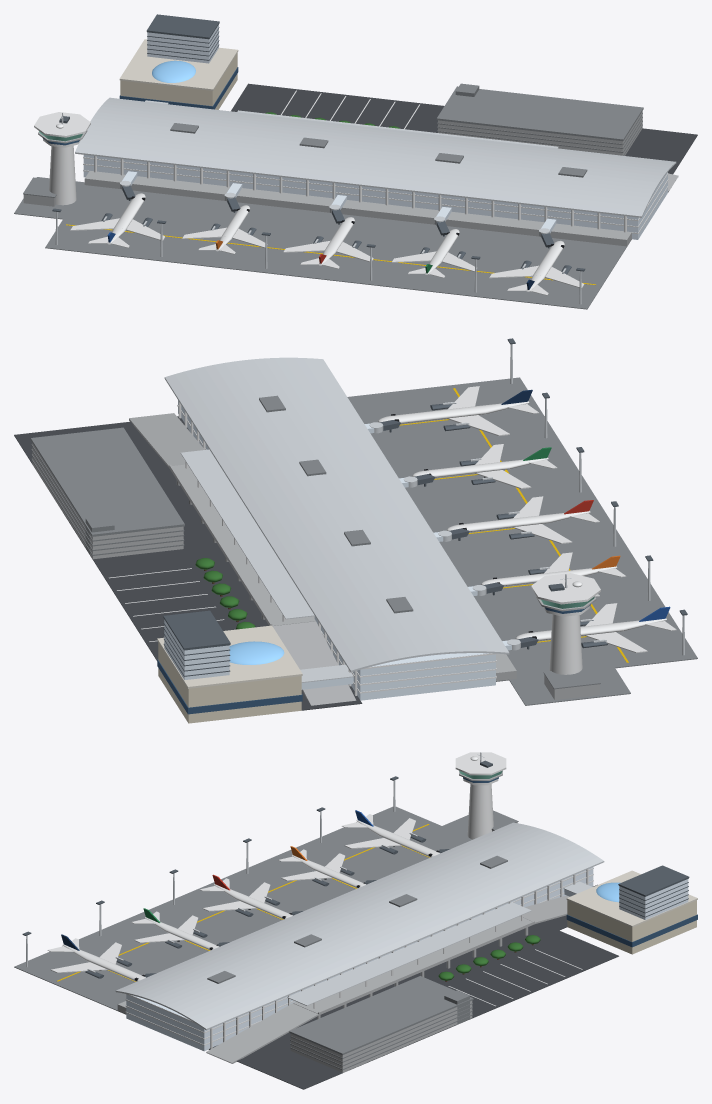
File: gimpo-airport.glb
3 renders of one model, top to bottom at view 1: azimuth 30°, elevation 25°; view 2: azimuth 150°, elevation 25°; view 3: azimuth 270°, elevation 25°, orthographic. The views are drawn at different scales.
Size of the model in its own units: 487 by 67.68 by 497.
